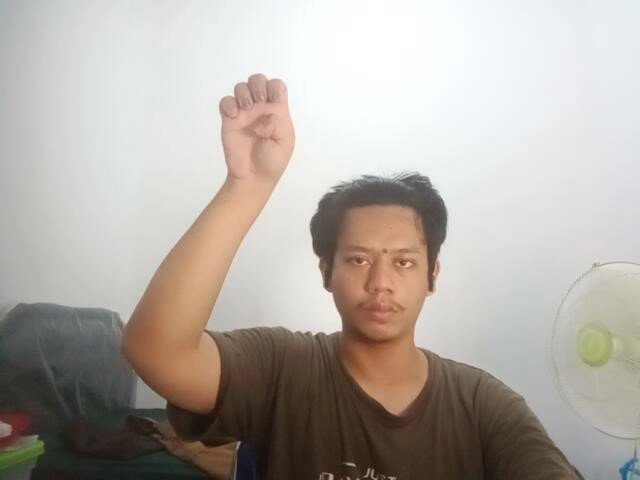E: (206, 67, 308, 191)
